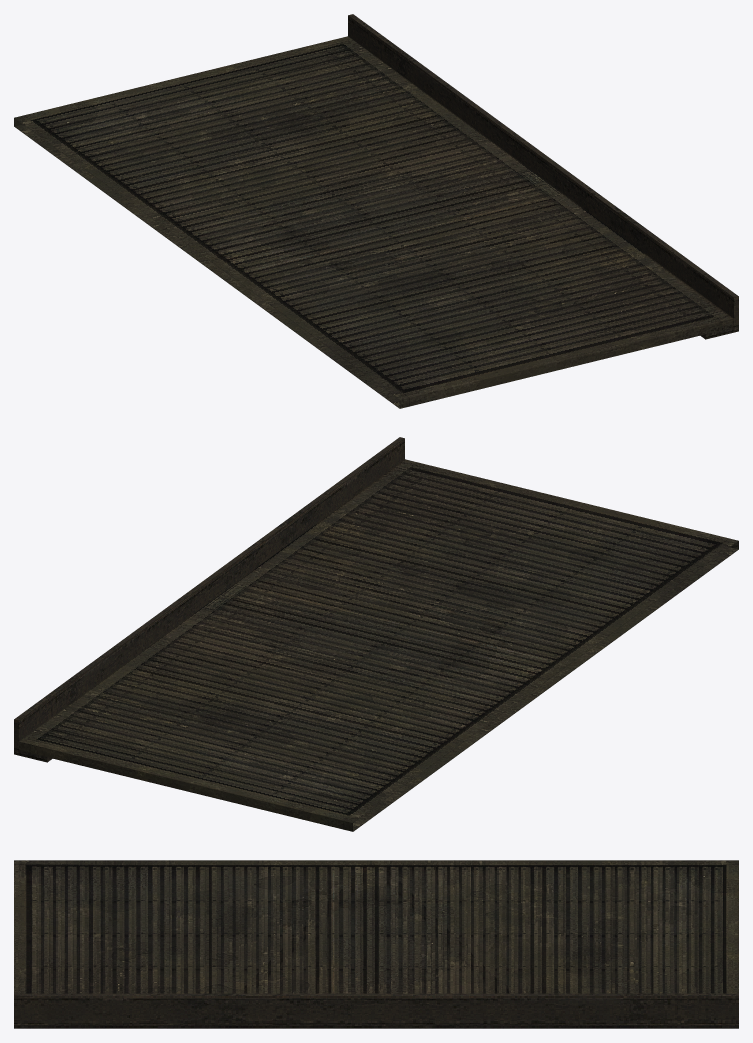
File: platform_cx_1.glb
3 renders of one model, top to bottom at view 1: azimuth 30°, elevation 25°; view 2: azimuth 150°, elevation 25°; view 3: azimuth 270°, elevation 25°, orthographic. The views are drawn at different scales.
Visible parts, largest first — view 1: platform_cx_1; view 2: platform_cx_1; view 3: platform_cx_1.
Part boxes in pixels (box(x1,y1,x2,y2)): platform_cx_1: box(14, 14, 738, 408); platform_cx_1: box(14, 437, 738, 831); platform_cx_1: box(14, 860, 738, 1028).
Bounding box in the file's own units: 2.03 × 0.2 × 4.
Materials: 2 (2 with a texture image).
